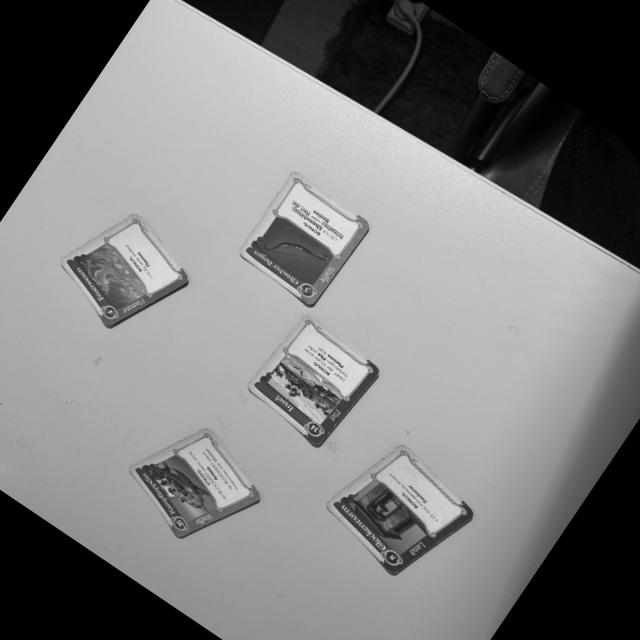Clock Tower: (319, 441, 480, 579)
Elven Longbow: (238, 167, 377, 310)
Fire Elemental: (56, 213, 194, 333)
Island: (243, 307, 385, 451)
War Dirigable: (123, 418, 267, 543)
